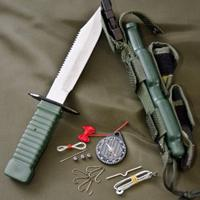knife: (4, 2, 108, 192)
